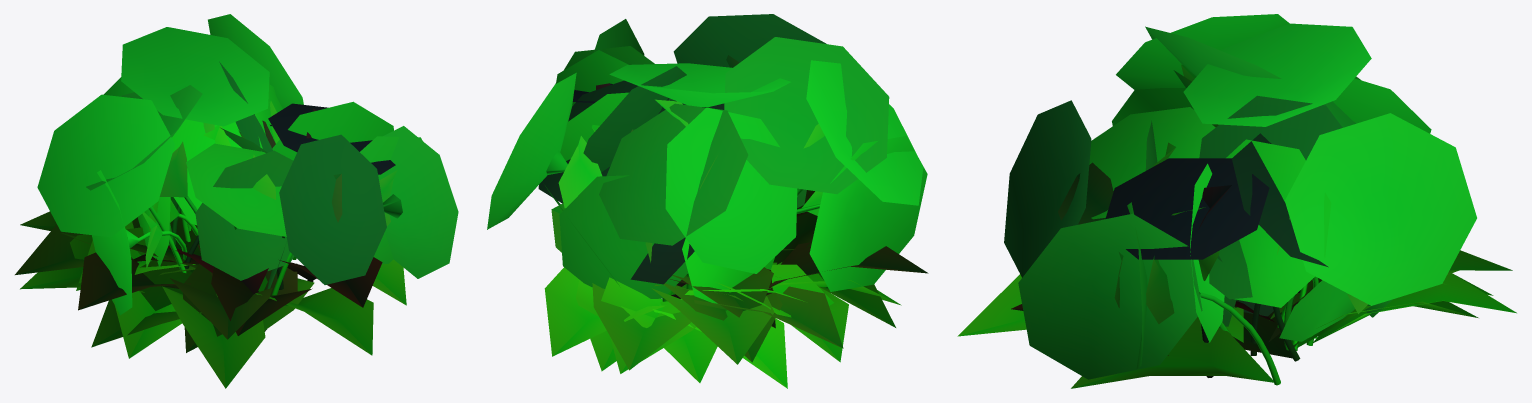
Rendered from mv_FlowerG.fbx.
The picture shows the model from 3 angles, left to right: view 1: azimuth 30°, elevation 25°; view 2: azimuth 150°, elevation 25°; view 3: azimuth 270°, elevation 25°; orthographic projection. The views are drawn at different scales.
Parts seen in each view (by area): view 1: FlowerG_LOD0; view 2: FlowerG_LOD0; view 3: FlowerG_LOD0.
Boxes of the visible parts, bbox=[...] form: FlowerG_LOD0: bbox=[15, 14, 458, 388]; FlowerG_LOD0: bbox=[487, 14, 928, 388]; FlowerG_LOD0: bbox=[957, 14, 1516, 388].
Size of what is drawn, in the model's own units: 24.41 by 15.7 by 27.57.
